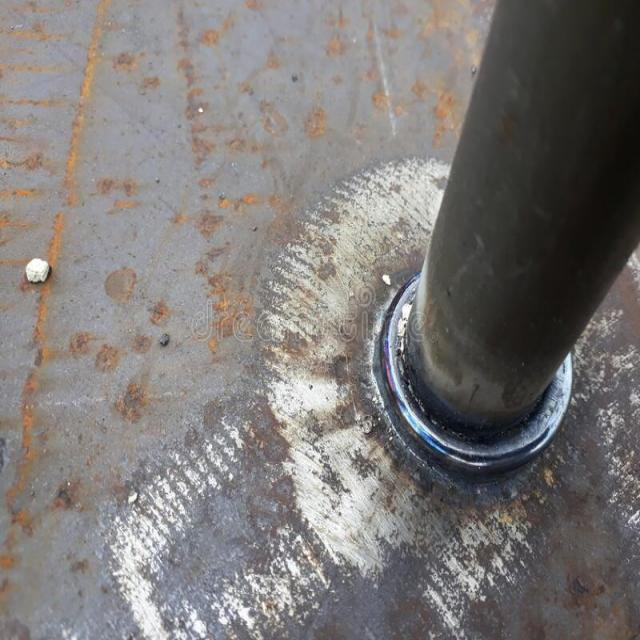Good Welding: (411, 424, 534, 471)
